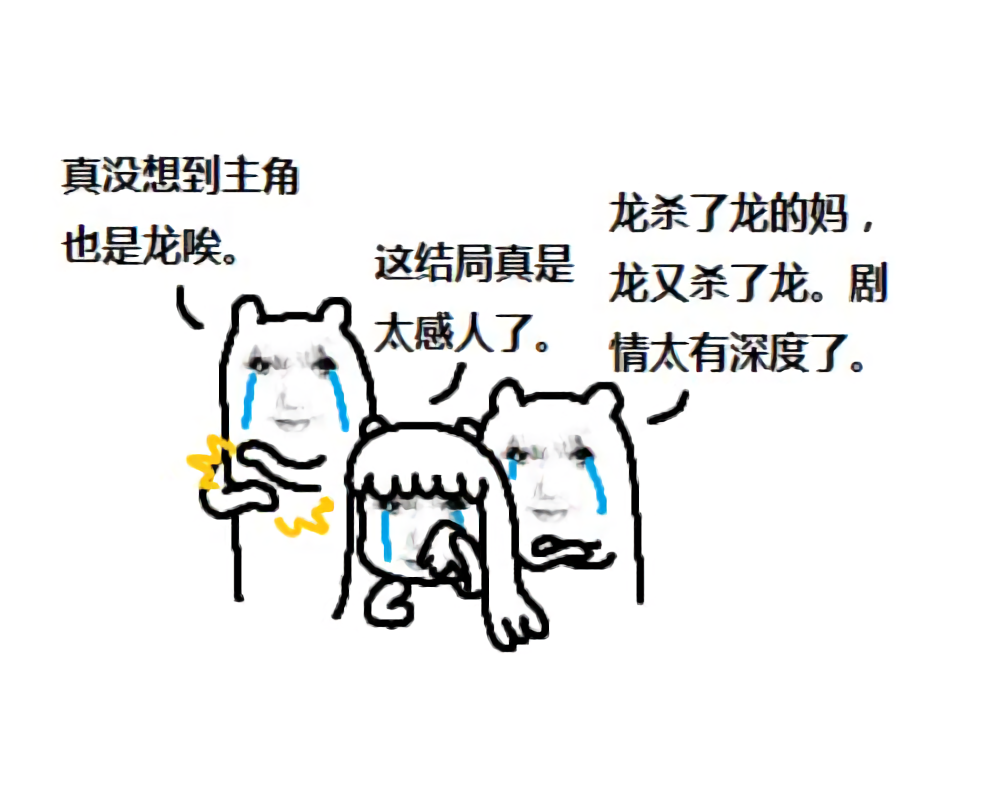dragon: (242, 343, 347, 434), (375, 492, 477, 580), (505, 436, 603, 526)
